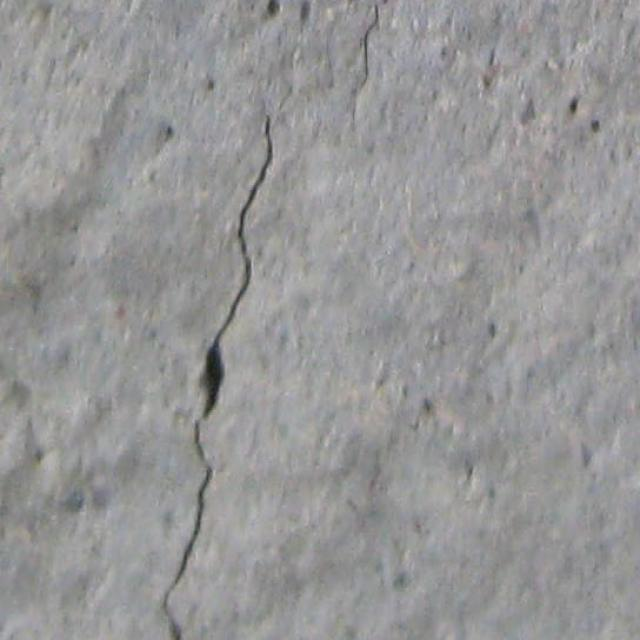Longitudinal: (139, 96, 288, 640)
